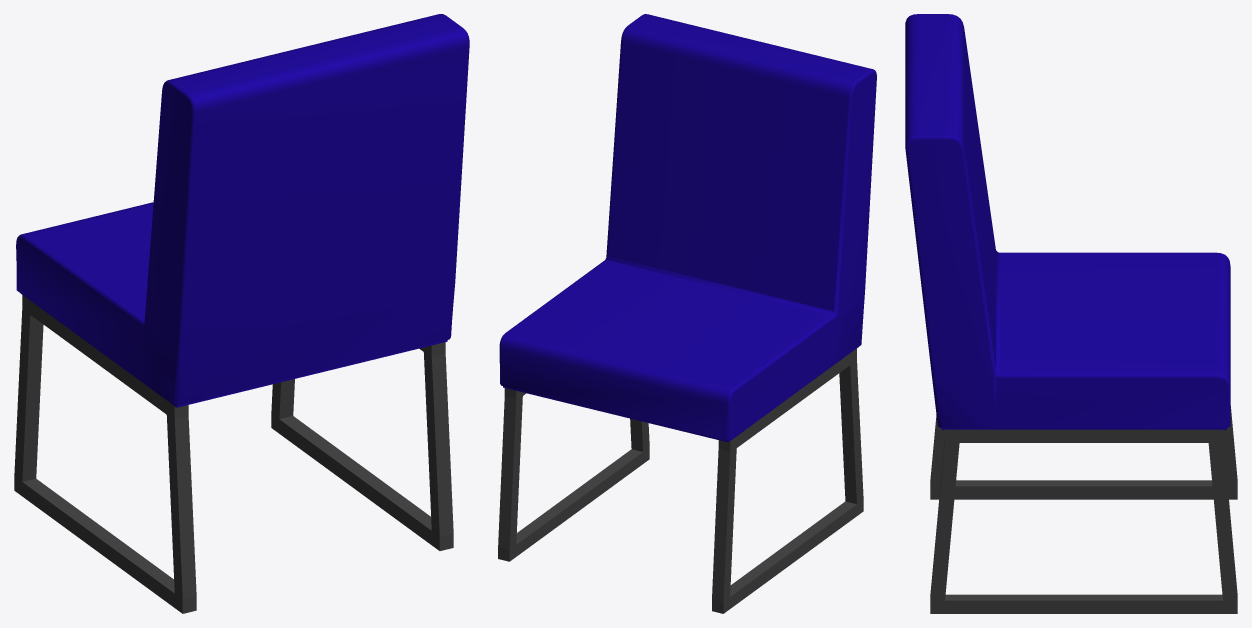
File: chair.FBX
3 renders of one model, left to right at view 1: azimuth 30°, elevation 25°; view 2: azimuth 150°, elevation 25°; view 3: azimuth 270°, elevation 25°, orthographic. The views are drawn at different scales.
Parts seen in each view (by area): view 1: Box001, Box004, Box002, Box005; view 2: Box001, Box004, Box002, Box005; view 3: Box001, Box002, Box004, Box003.
Part boxes in pixels (<box>): Box001: <box>16,14,469,407</box>; Box004: <box>14,308,196,613</box>; Box002: <box>271,352,453,550</box>; Box005: <box>22,295,188,419</box>; Box001: <box>499,14,876,442</box>; Box004: <box>712,360,863,613</box>; Box002: <box>498,395,649,561</box>; Box005: <box>718,348,856,451</box>; Box001: <box>905,14,1230,429</box>; Box002: <box>930,436,1237,613</box>; Box004: <box>930,406,1237,499</box>; Box003: <box>945,429,1222,442</box>.
Size of the model in its own units: 20 by 36.12 by 22.71.
